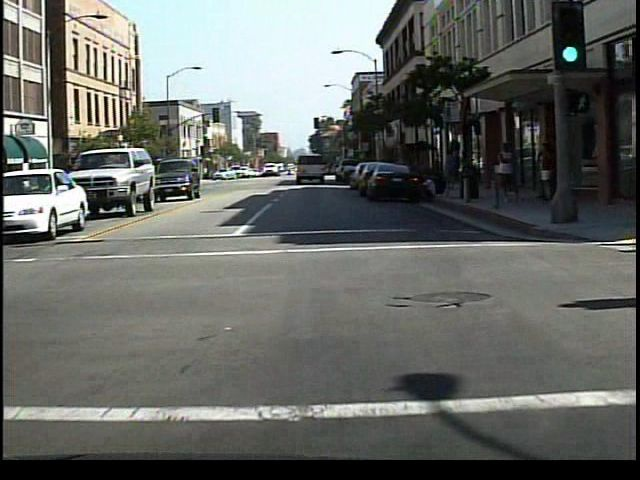person: (494, 137, 528, 211), (440, 144, 464, 199)
